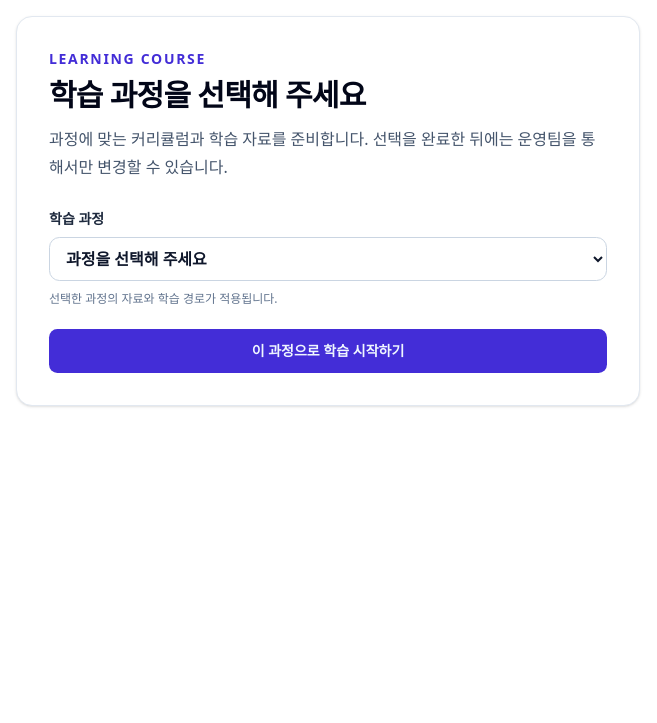
Test: CourseEnrollment › shows elementary birth-date and guardian guidance only after choosing elementary
Select "초등 과정" in the dropdown with id "learning-course" at [328, 259], box [49,237,607,281]
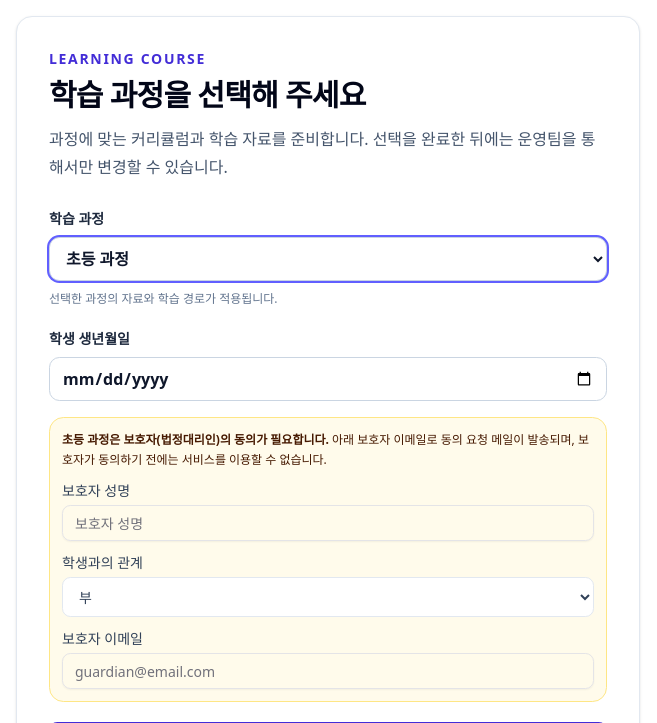
Check: the date field labelled "학생 생년월일" is shown, box [49,357,607,401]
Check: the element named "법정대리인 정보" shows "보호자(법정대리인)의 동의", box [62,431,329,448]
Select "중고등 과정" in the dropdown with id "learning-course" at [328, 259], box [49,237,607,281]
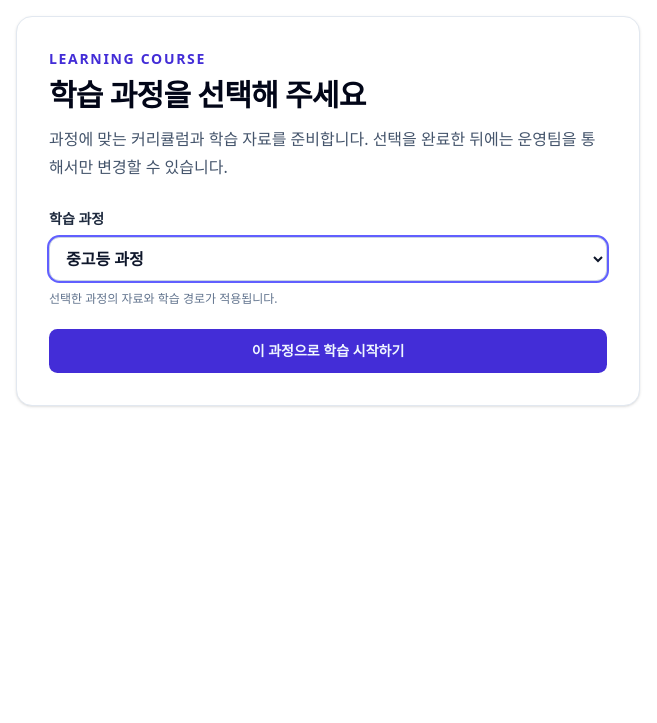
Check: the date field is gone
